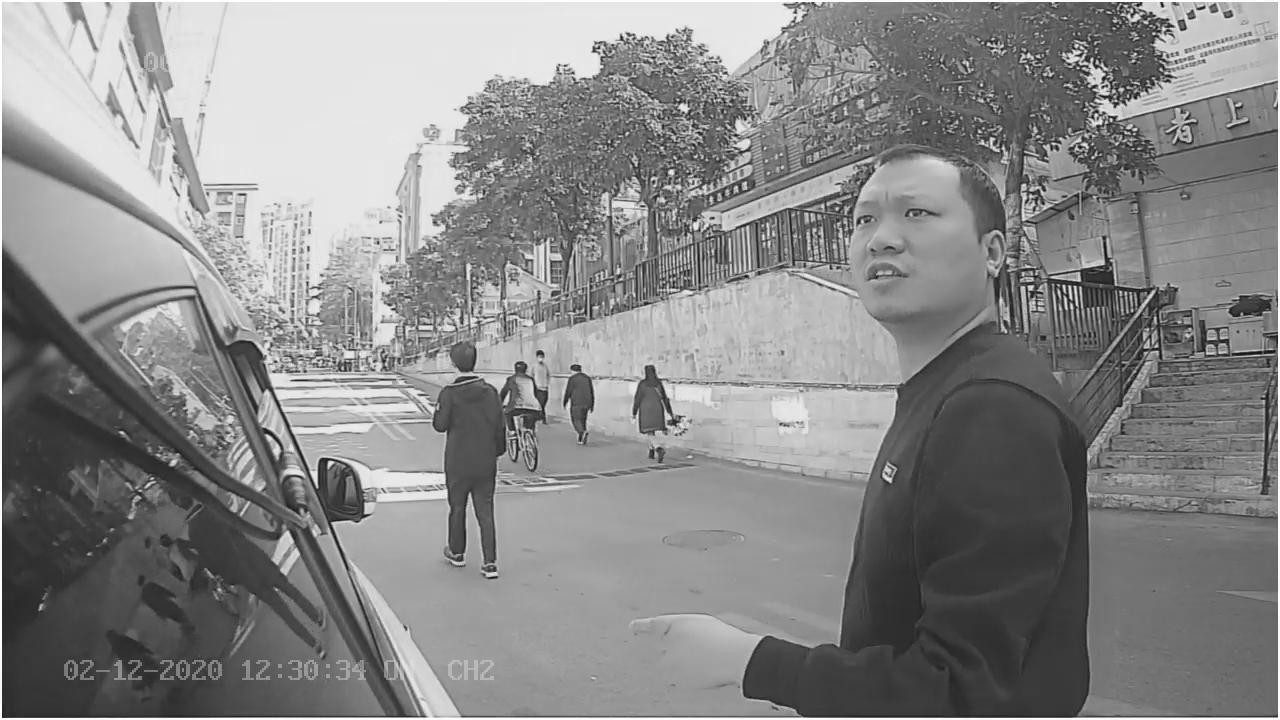person: (804, 121, 1091, 581), (423, 335, 510, 592)
